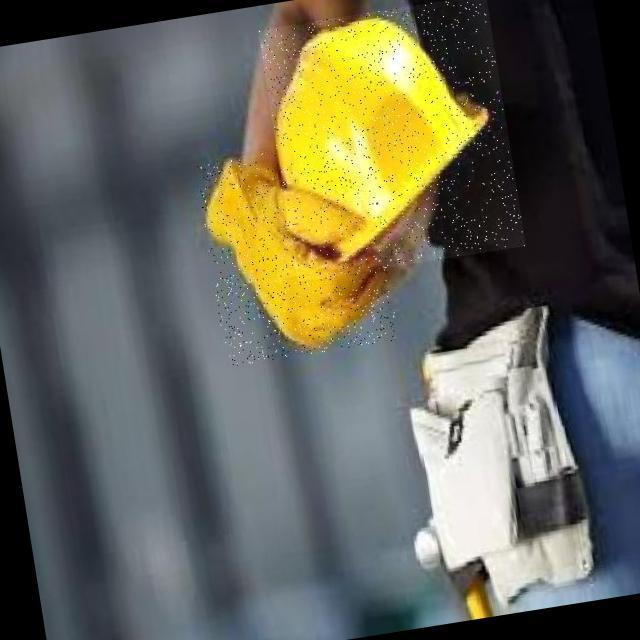Gloves: (194, 155, 404, 358)
Helmet: (267, 14, 491, 231)
